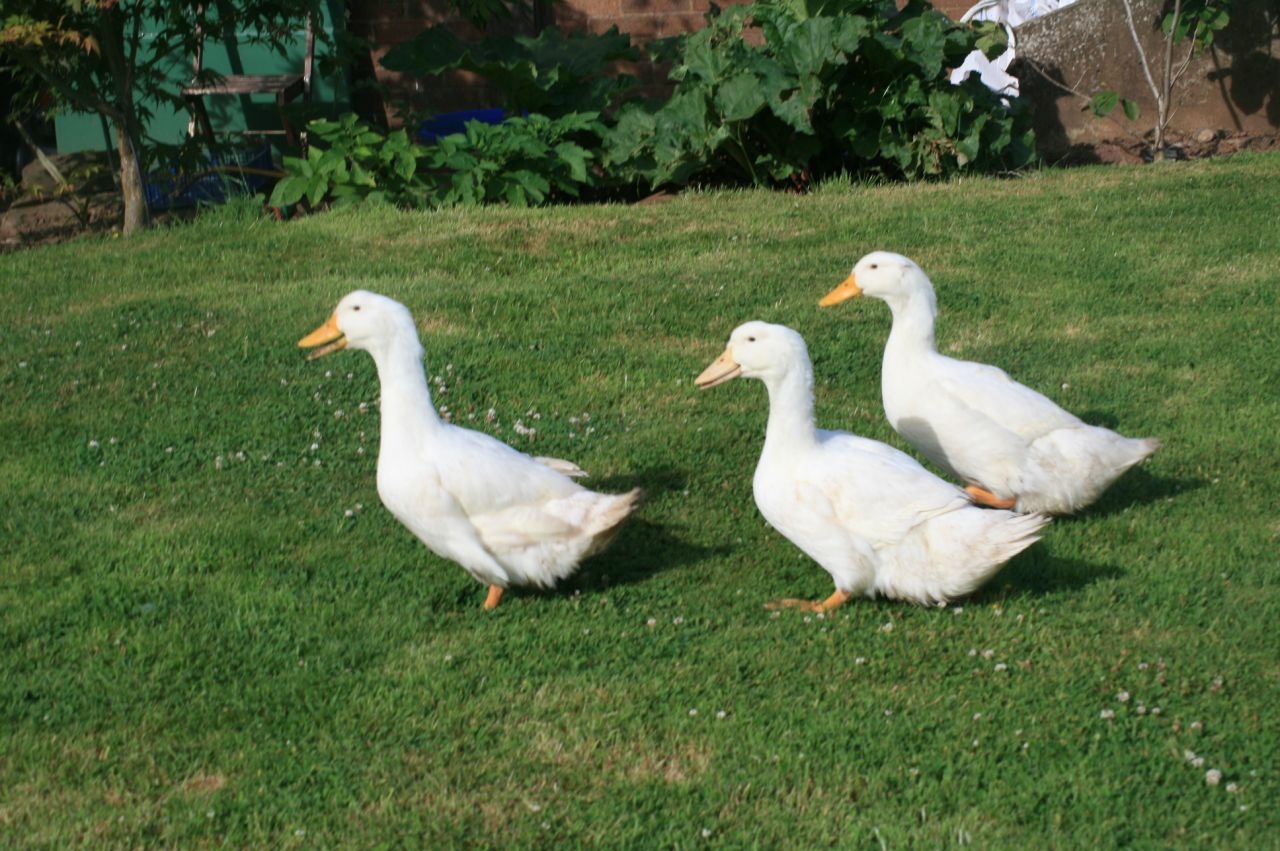Mencari Makan di Lumpur: (281, 318, 350, 364), (685, 343, 739, 394), (812, 268, 862, 310)
